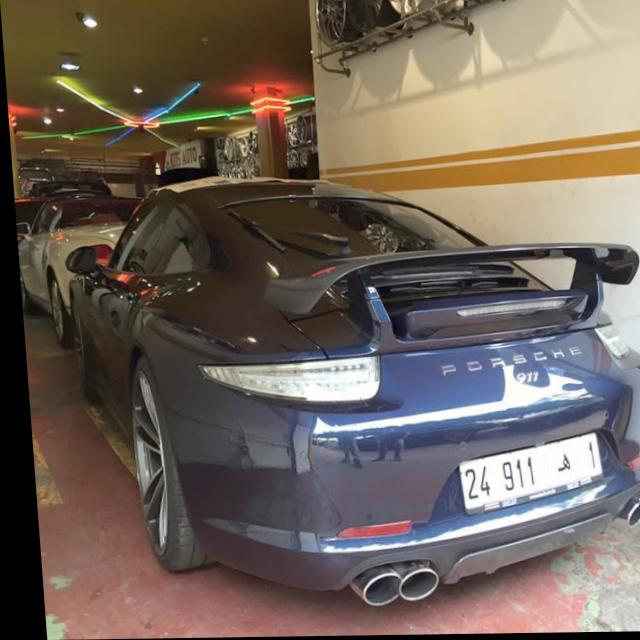License-Plate: (451, 434, 594, 516)
